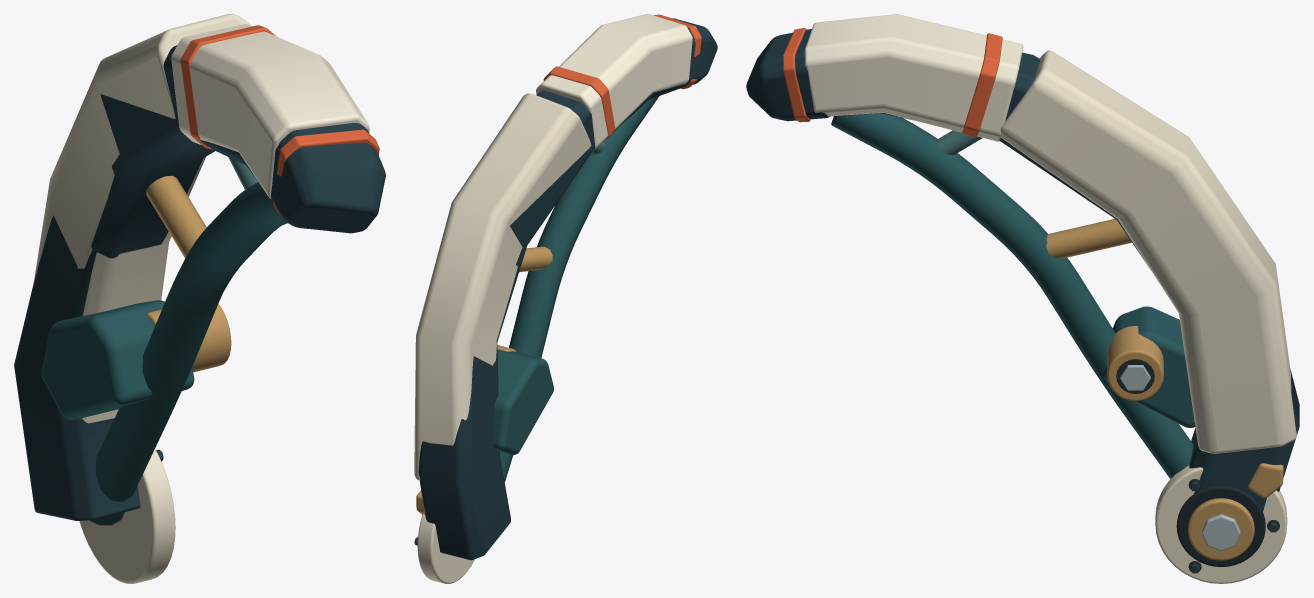
The model's file is SM_Mk2_GuardArm_R.fbx.
3 renders of one model, left to right at view 1: azimuth 30°, elevation 25°; view 2: azimuth 150°, elevation 25°; view 3: azimuth 270°, elevation 25°, orthographic. The views are drawn at different scales.
Parts seen in each view (by area): view 1: SM_Mk2_GuardArm_R; view 2: SM_Mk2_GuardArm_R; view 3: SM_Mk2_GuardArm_R.
Part boxes in pixels (x1,y1,x2,y2): SM_Mk2_GuardArm_R: (14,14,385,583); SM_Mk2_GuardArm_R: (414,14,717,583); SM_Mk2_GuardArm_R: (746,14,1299,583).
Bounding box in the file's own units: 16.29 × 64.57 × 69.11.
